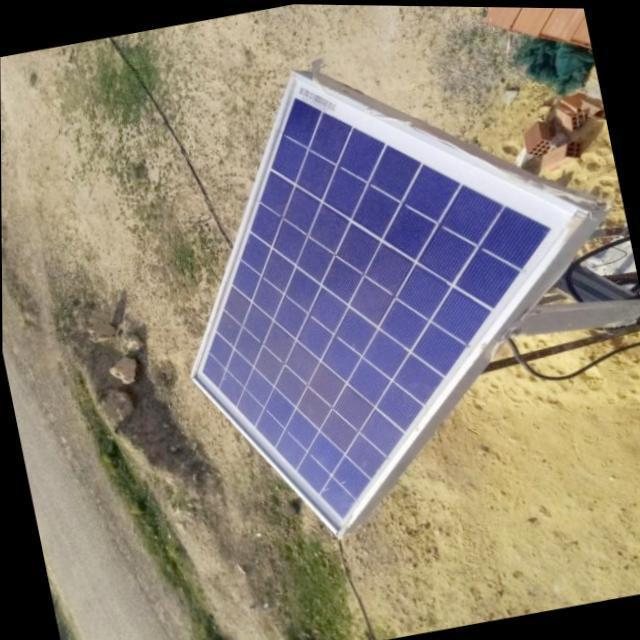Normal Solar Panel: (134, 17, 638, 559)
